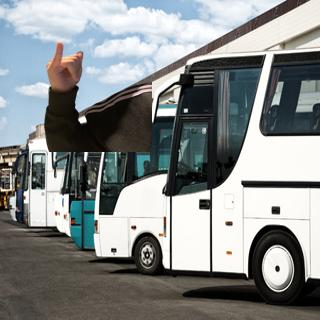HAVE: (42, 39, 91, 96)
